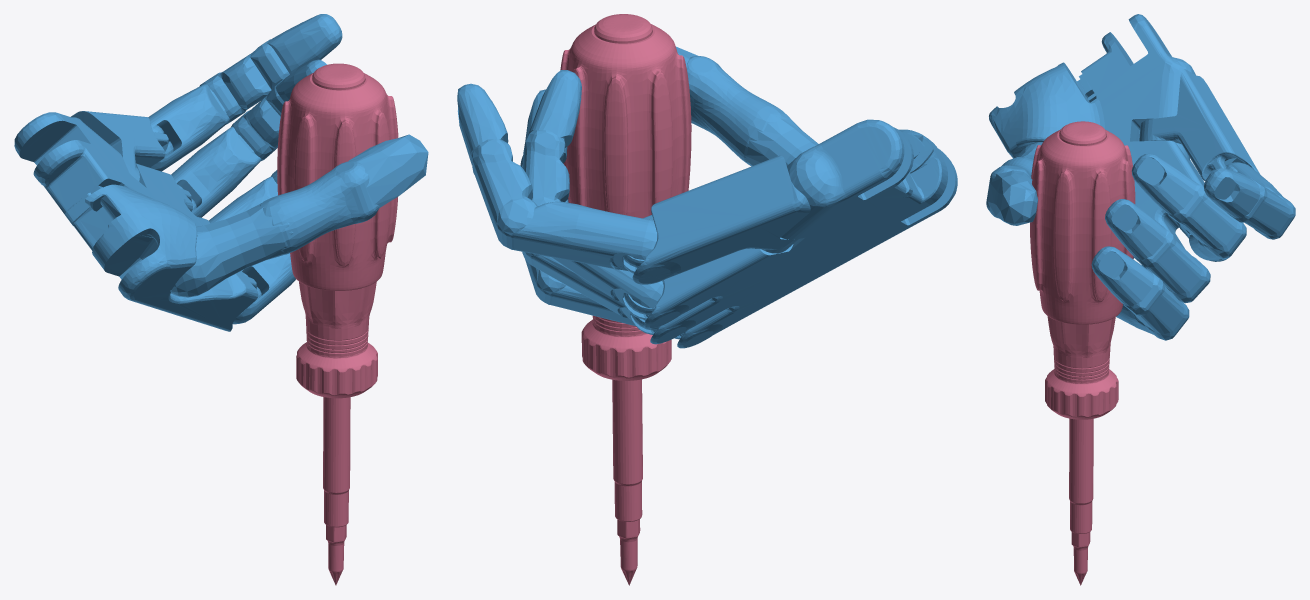
3 renders of one model, left to right at view 1: azimuth 30°, elevation 25°; view 2: azimuth 150°, elevation 25°; view 3: azimuth 270°, elevation 25°, orthographic. The views are drawn at different scales.
Visible parts, largest first — view 1: 4; view 2: 4; view 3: 4.
Part boxes in pixels (<box>): 4: <box>14,14,428,585</box>; 4: <box>457,14,957,585</box>; 4: <box>986,14,1295,585</box>.
Bounding box in the file's own units: 0.1591 × 0.2141 × 0.1308.
